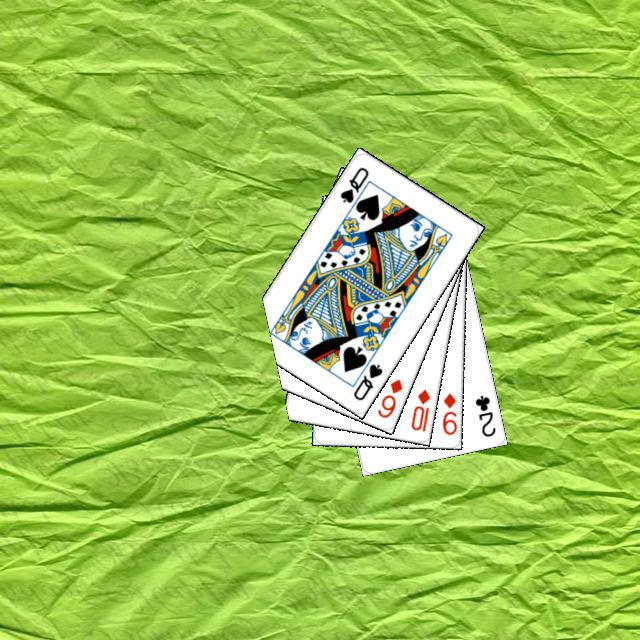10d: (406, 384, 432, 433)
2c: (470, 390, 497, 438)
6d: (372, 374, 404, 420)
9d: (438, 388, 458, 436)
Qs: (348, 359, 384, 402), (335, 162, 370, 205)
